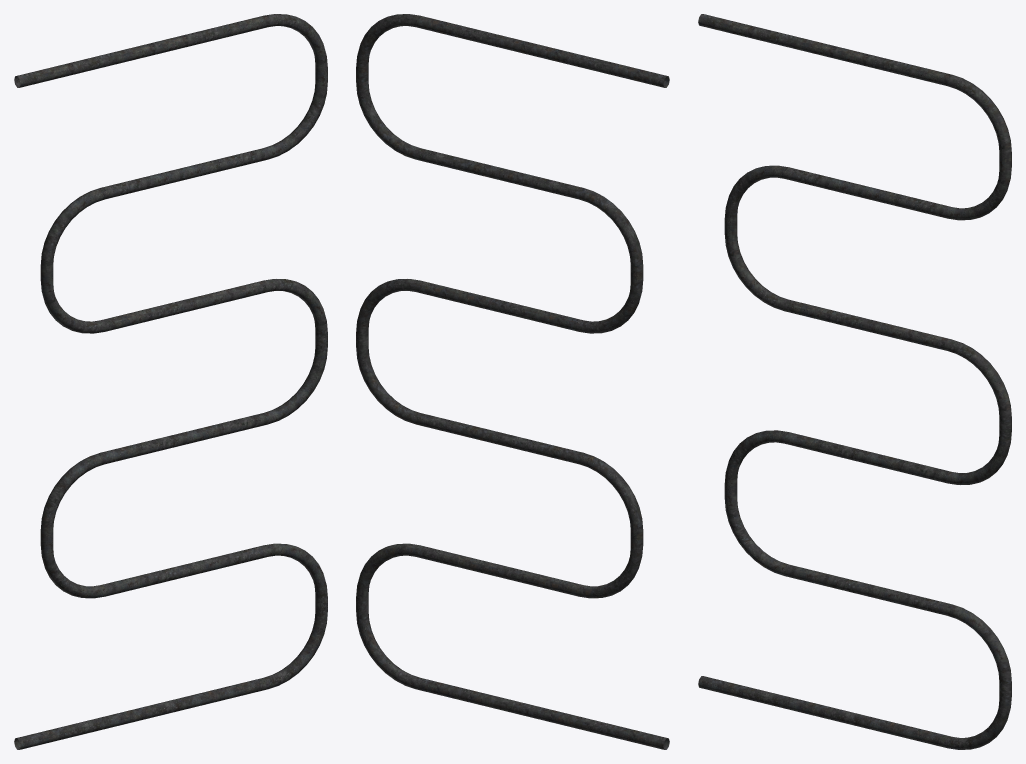
File: cP_BikeRack02.dae
3 views of the same model, side by side, from view 1: azimuth 30°, elevation 25°; view 2: azimuth 150°, elevation 25°; view 3: azimuth 330°, elevation 25° (orthographic).
Parts seen in each view (by area): view 1: cP_BikeRack02.001; view 2: cP_BikeRack02.001; view 3: cP_BikeRack02.001.
Boxes of the visible parts, x1=… form: cP_BikeRack02.001: x1=14, y1=14, x2=327, y2=749; cP_BikeRack02.001: x1=356, y1=14, x2=669, y2=749; cP_BikeRack02.001: x1=698, y1=14, x2=1011, y2=749.
Bounding box in the file's own units: 1.3 × 0.0465 × 2.69.
